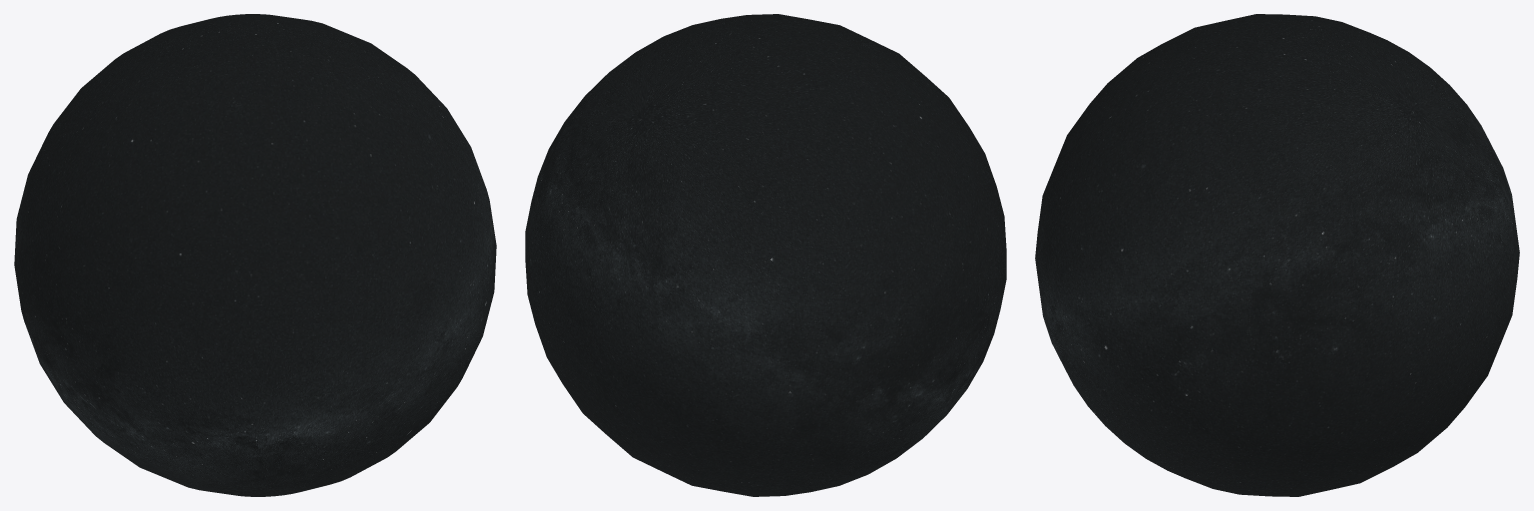
The model's file is Spring.gltf.
3 renders of one model, left to right at view 1: azimuth 30°, elevation 25°; view 2: azimuth 150°, elevation 25°; view 3: azimuth 270°, elevation 25°, orthographic.
Visible parts, largest first — view 1: Sphere.002; view 2: Sphere.002; view 3: Sphere.002.
Boxes of the visible parts, x1,y1,x2,y2 form: Sphere.002: (14, 14, 496, 496); Sphere.002: (525, 14, 1006, 496); Sphere.002: (1035, 14, 1519, 496).
Size of the model in its own units: 233 by 233 by 234.
